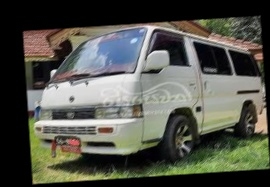van: (37, 19, 268, 164)
